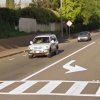Crosswalk: (3, 68, 91, 100)
